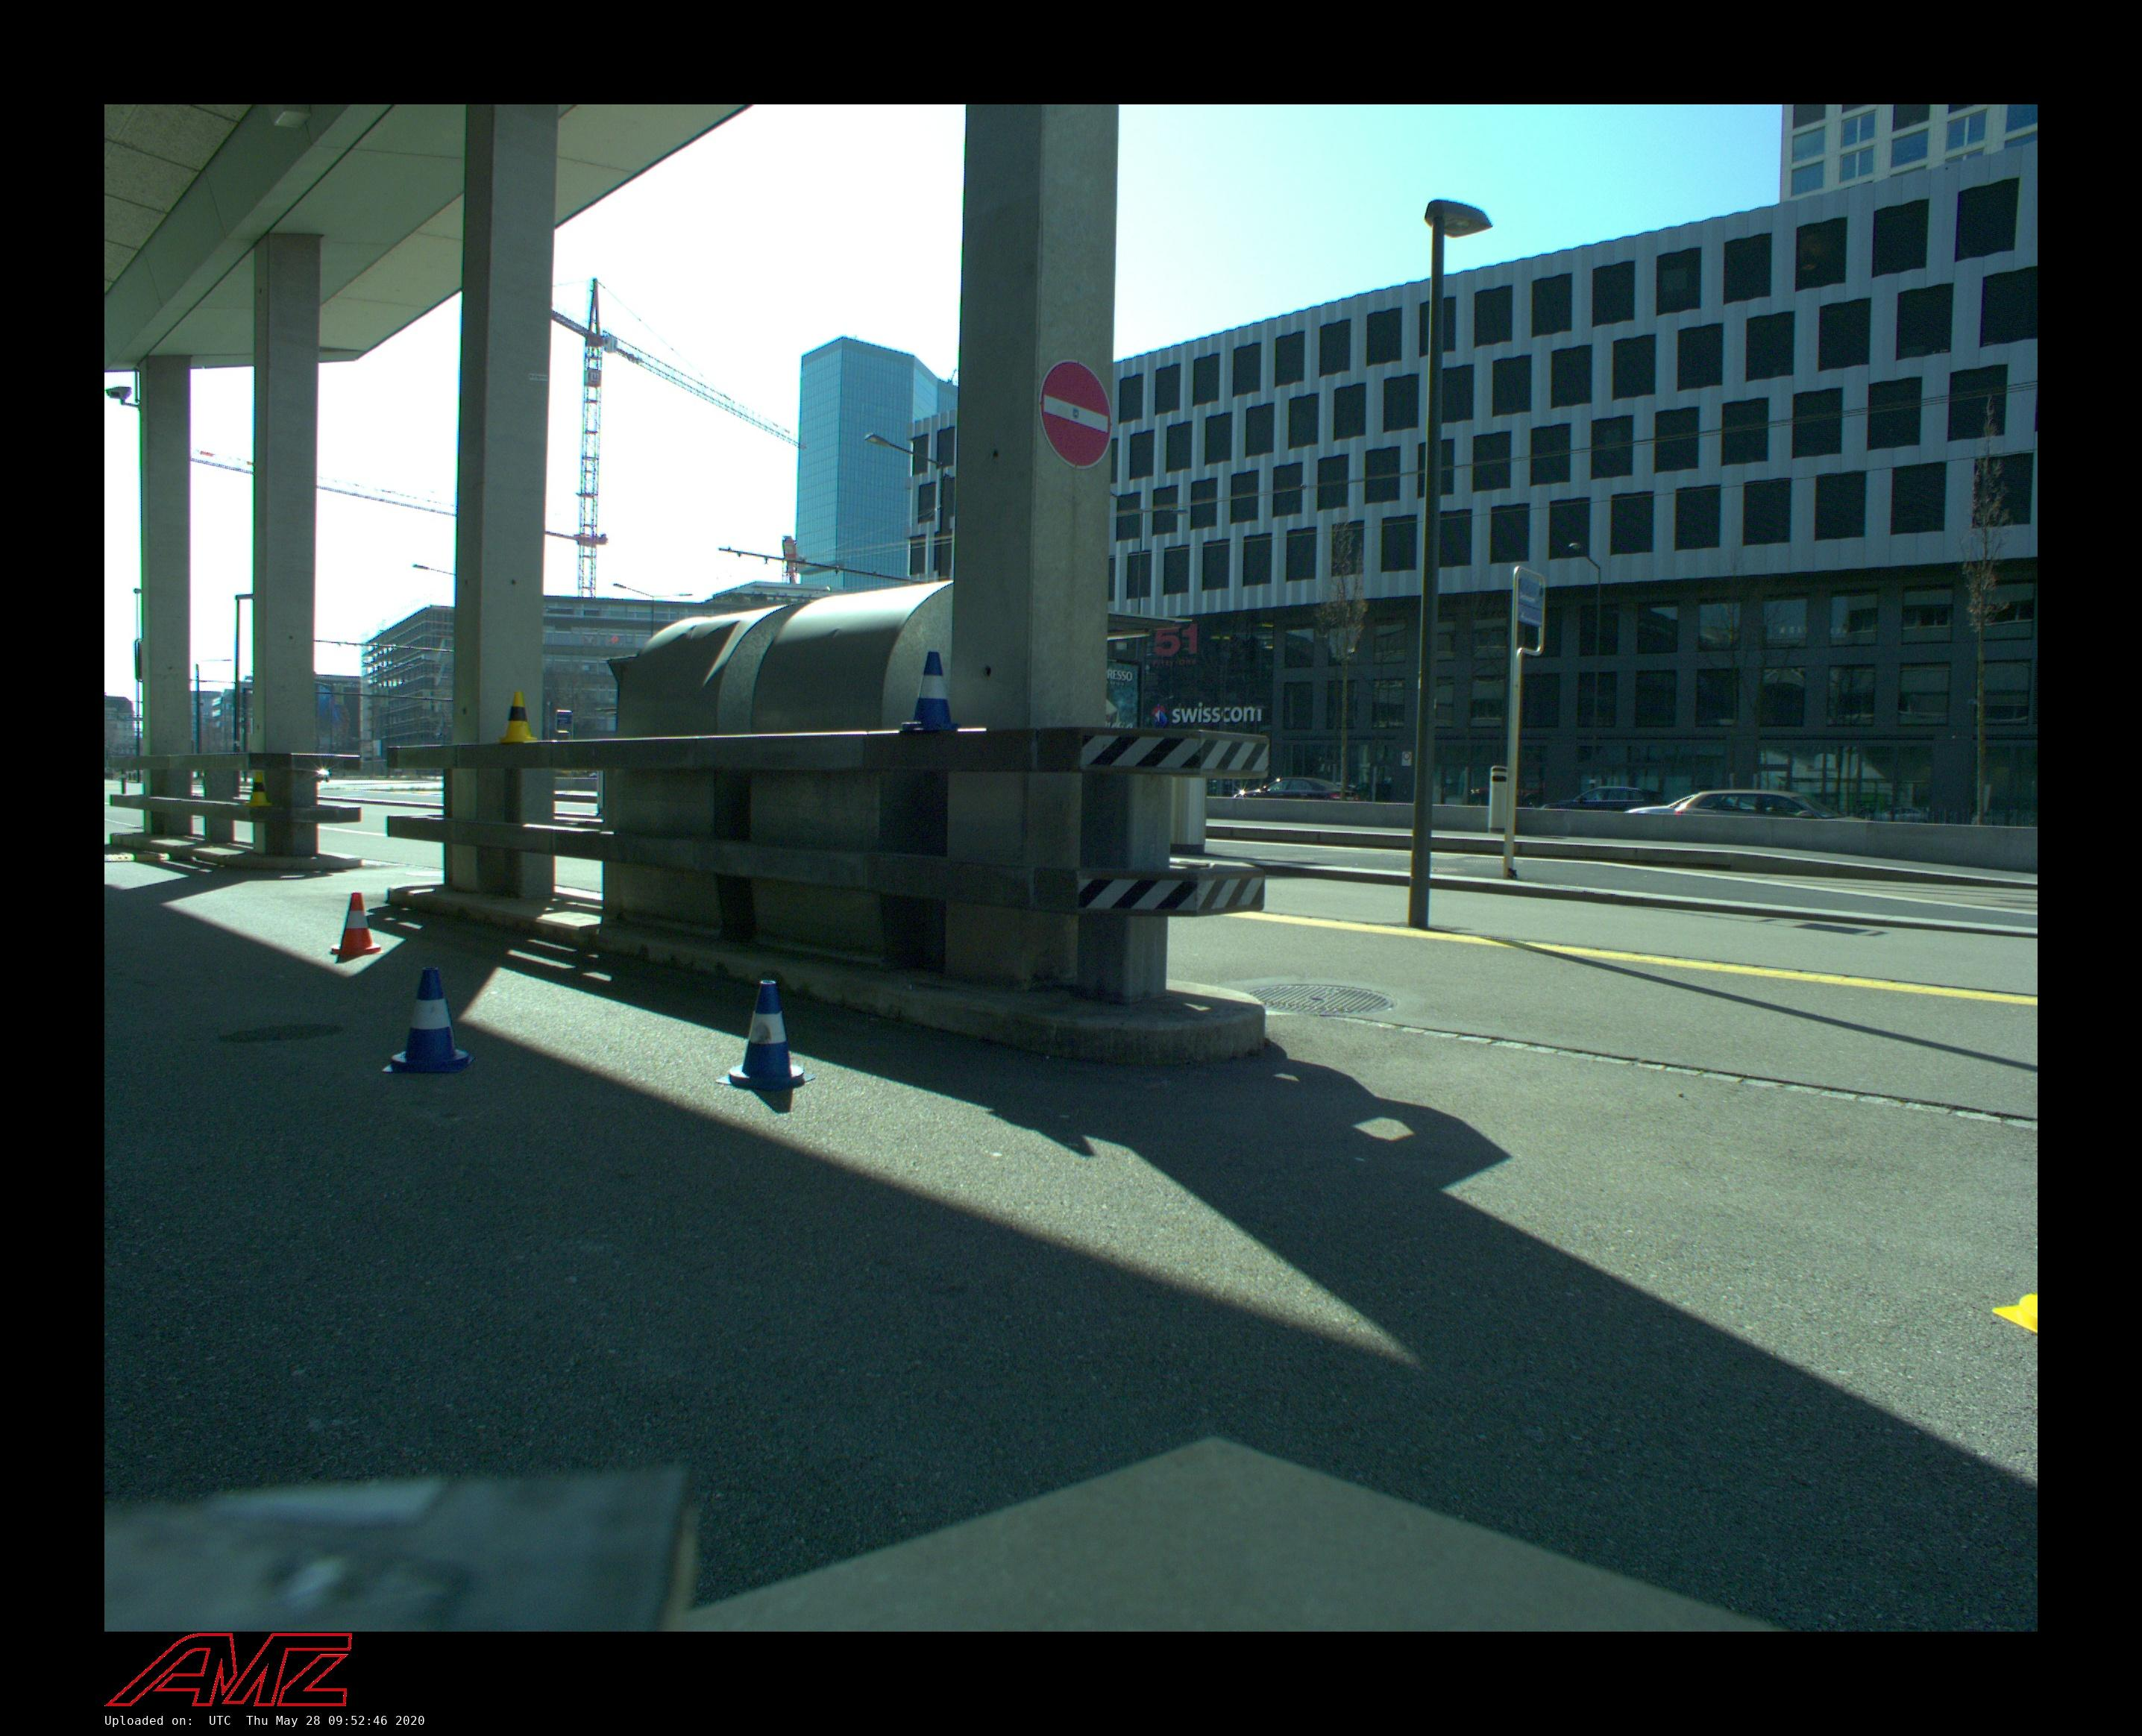blue_cone: (716, 981, 817, 1091), (383, 967, 477, 1073), (900, 652, 962, 730)
orange_cone: (330, 891, 384, 955)
yellow_cone: (500, 691, 539, 742), (244, 772, 273, 806)
